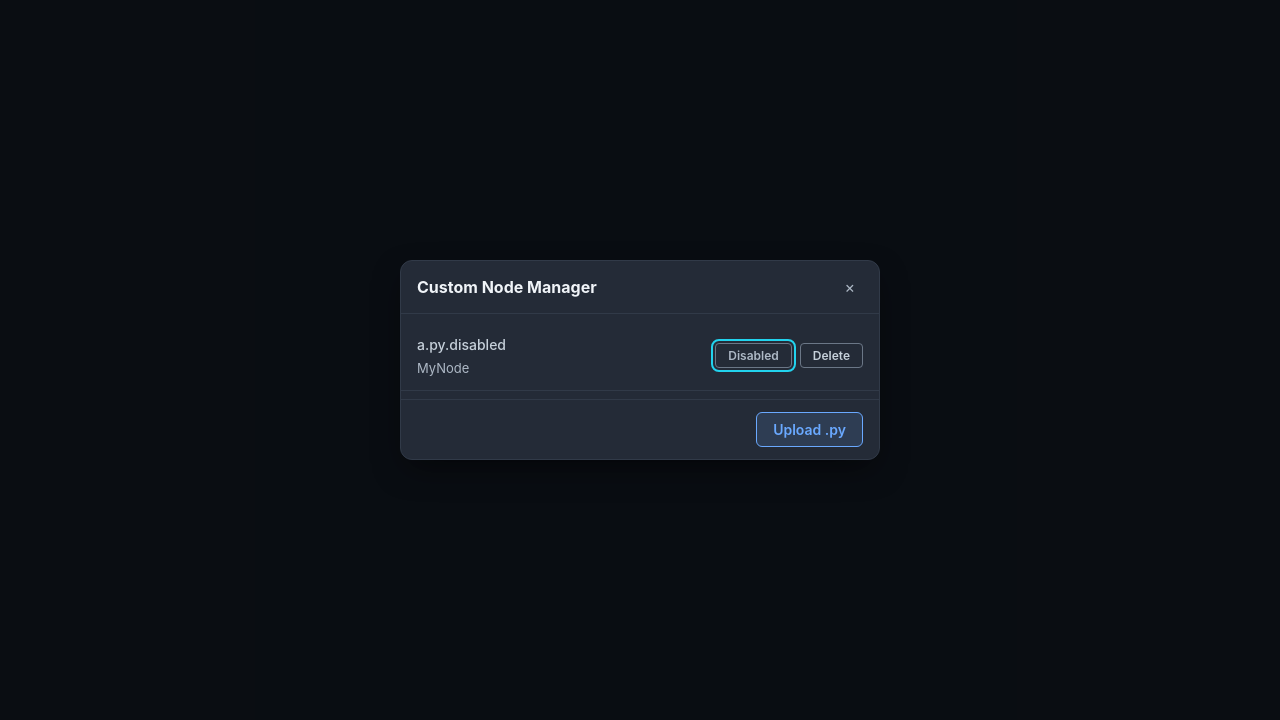
Test case: CustomNodeManager focus and re-reads › keeps focus on the toggle when a file is enabled again
Expected: the text "a.py.disabled" is shown, 417,336 -> 506,353
Click the button "Disabled".
click(754, 356)  # box 715,344 -> 792,368
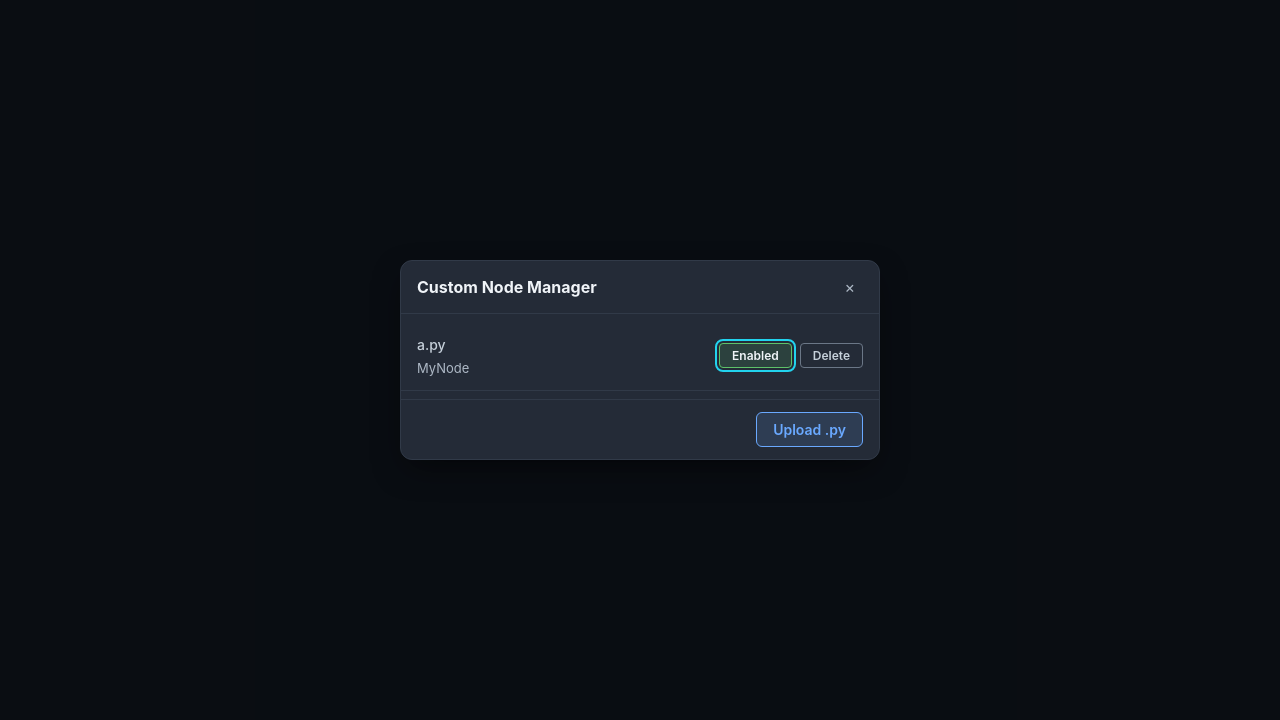
Expected: the text "a.py" is shown, 417,336 -> 446,353
Expected: the button "Enabled" is shown, 719,344 -> 792,368
